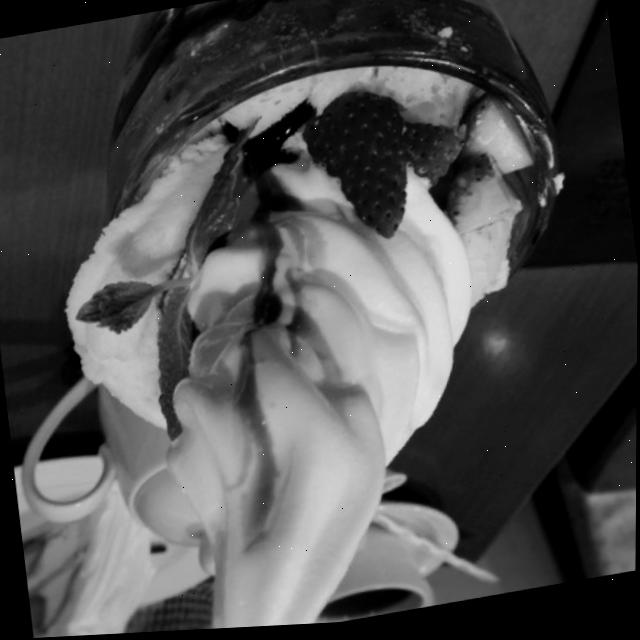蛋糕甜品: (10, 0, 640, 639)
